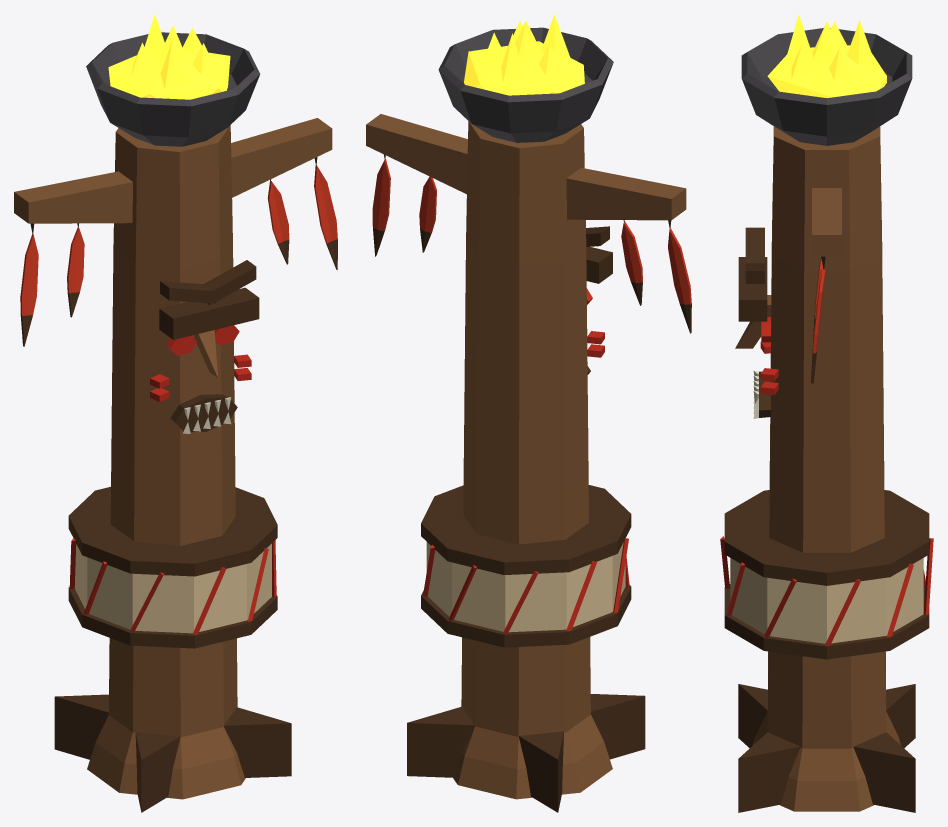
The model's file is Totem_War.fbx.
The picture shows the model from 3 angles, left to right: view 1: azimuth 30°, elevation 25°; view 2: azimuth 150°, elevation 25°; view 3: azimuth 270°, elevation 25°; orthographic projection. The views are drawn at different scales.
Parts seen in each view (by area): view 1: Totem_War; view 2: Totem_War; view 3: Totem_War.
Part boxes in pixels (box(x1,y1,x2,y2)): Totem_War: box(14, 14, 337, 812); Totem_War: box(366, 14, 691, 812); Totem_War: box(720, 14, 933, 812).
Size of the model in its own units: 62.39 by 140 by 35.73.
